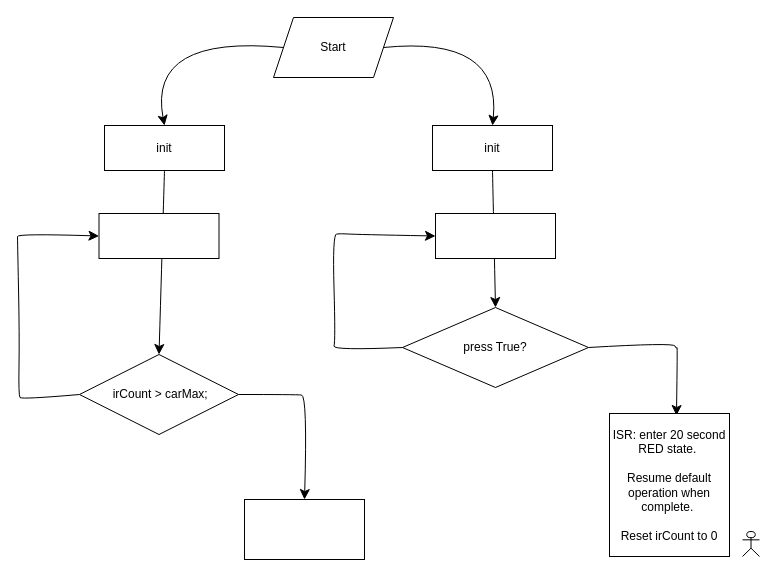
This 777x577 diagram has some shape labels left out. The shapes that lost their labels are listed below. From the top down, each one's centre as x and y in pixels, then its label:
At point (158, 235): "poll IR sensor".
At point (495, 235): "poll SW for press".
At point (304, 529): "advance to next state".
